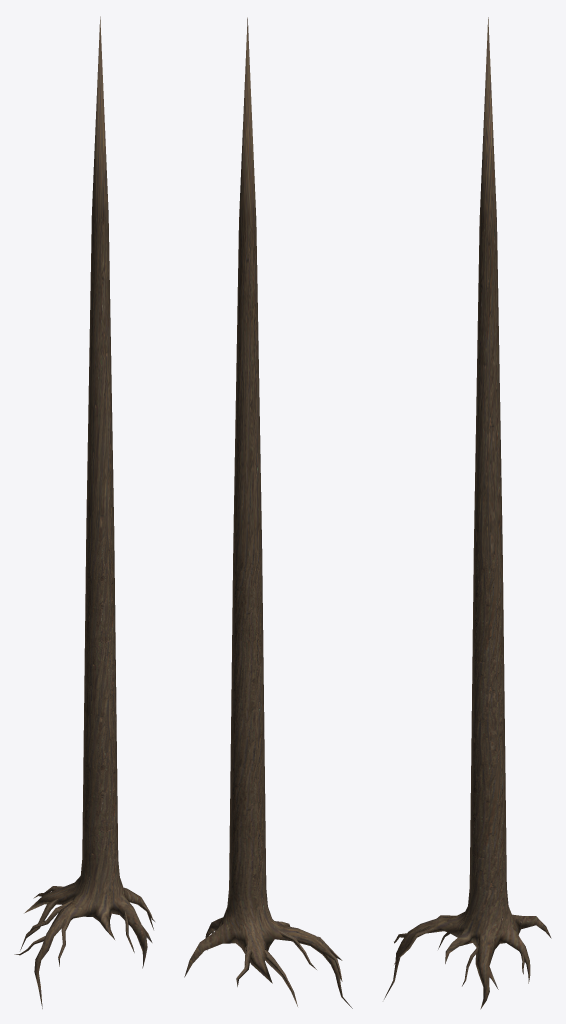
The model's file is BgMD_Tree_b.fbx.
3 renders of one model, left to right at view 1: azimuth 30°, elevation 25°; view 2: azimuth 150°, elevation 25°; view 3: azimuth 330°, elevation 25°, orthographic. The views are drawn at different scales.
Visible parts, largest first — view 1: main_tree; view 2: main_tree; view 3: main_tree.
Part boxes in pixels (bbox=[...]): main_tree: bbox=[14, 16, 154, 1008]; main_tree: bbox=[184, 17, 352, 1008]; main_tree: bbox=[384, 17, 551, 1009].
Size of the model in its own units: 425 by 2875 by 374.
